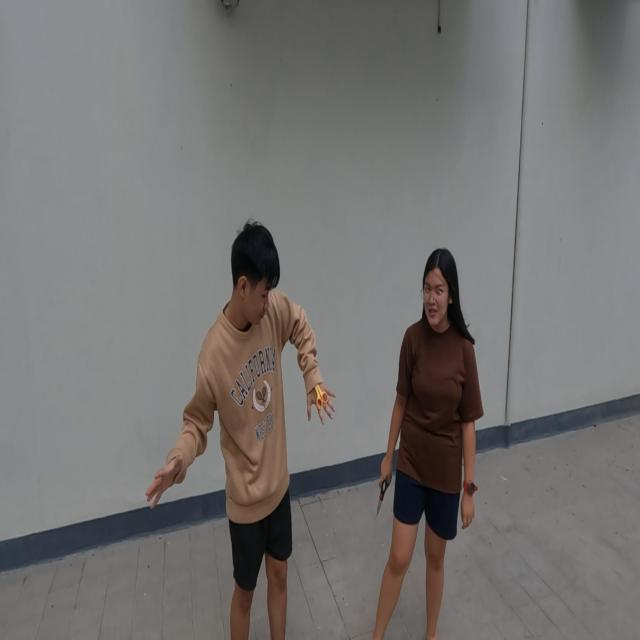scissor: (376, 476, 392, 517), (316, 384, 328, 409)
